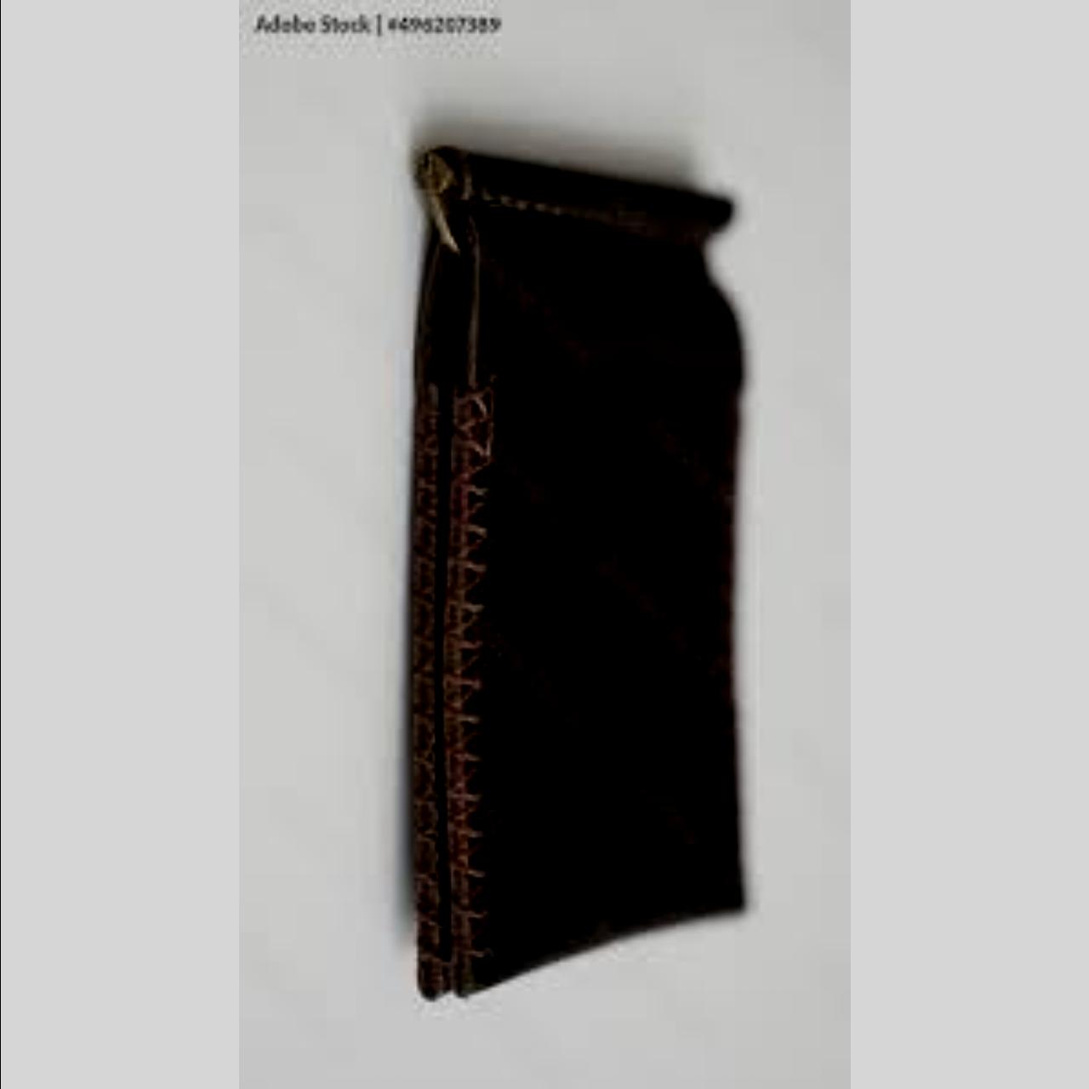wallet: (342, 140, 781, 1083)
